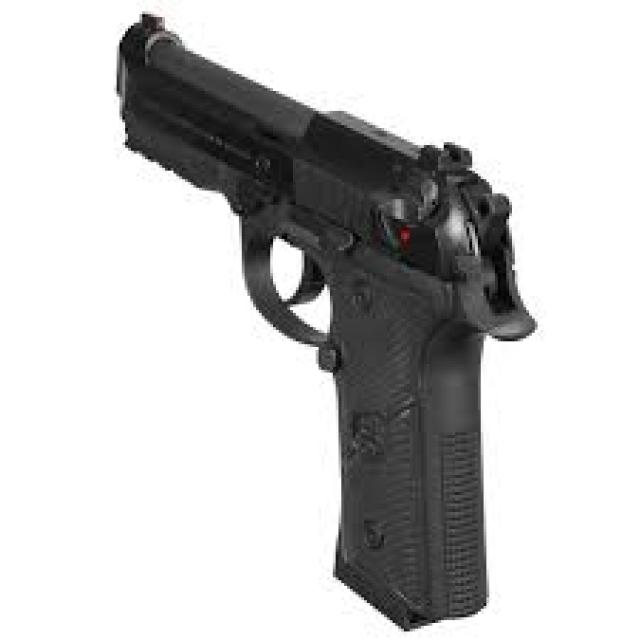pistol: (107, 8, 547, 634)
